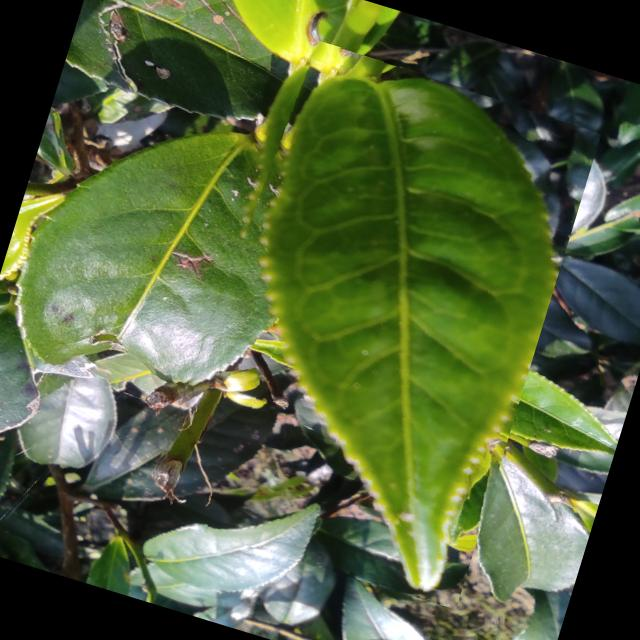Category B(2-4 days): (139, 29, 603, 608)
